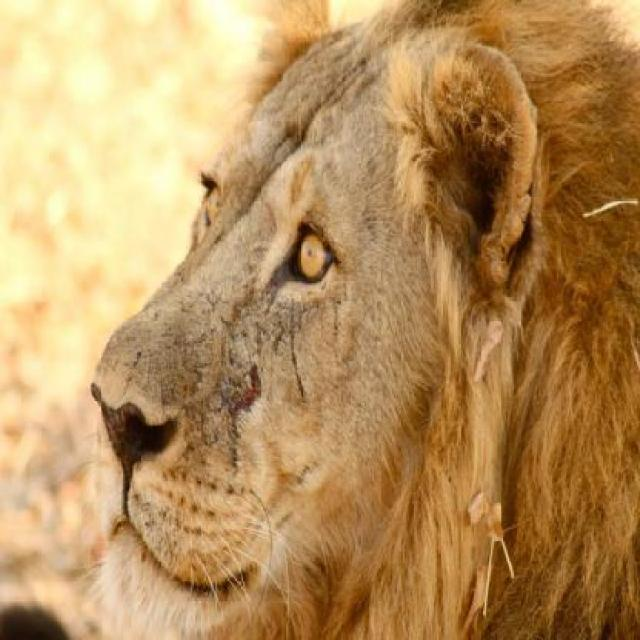Lion: (71, 9, 635, 638)
